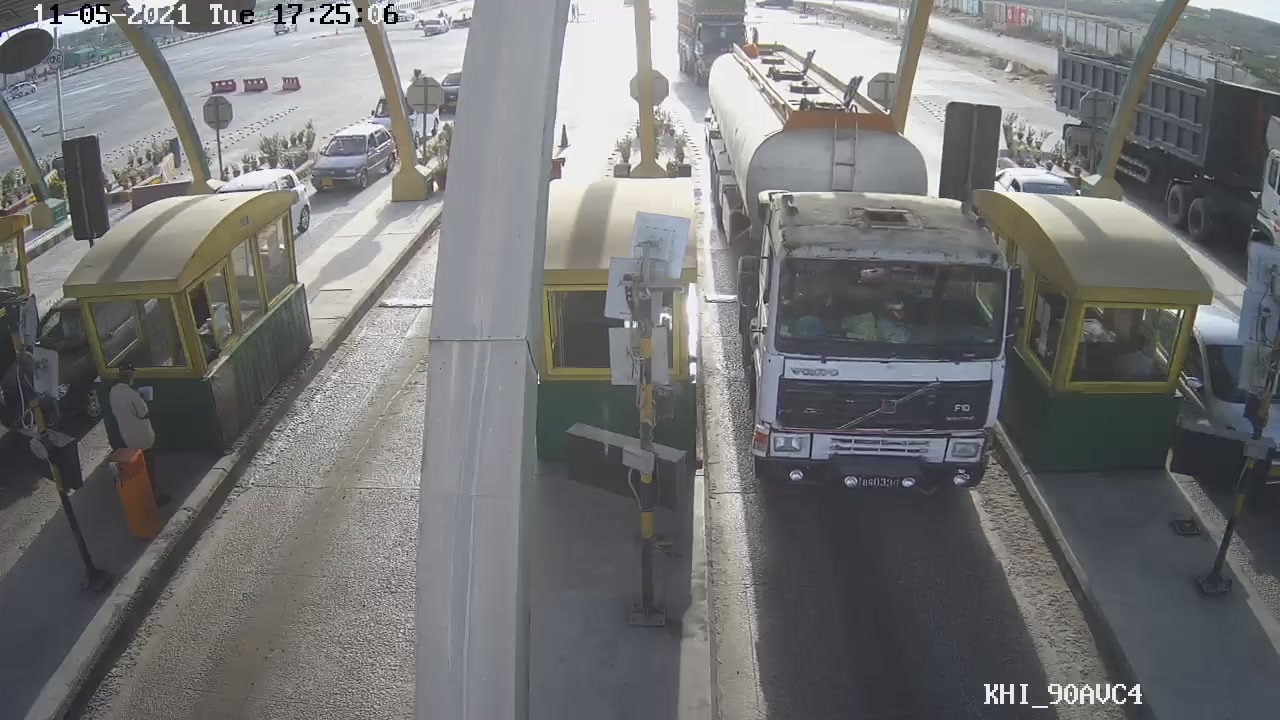F6: (700, 45, 1034, 507)
